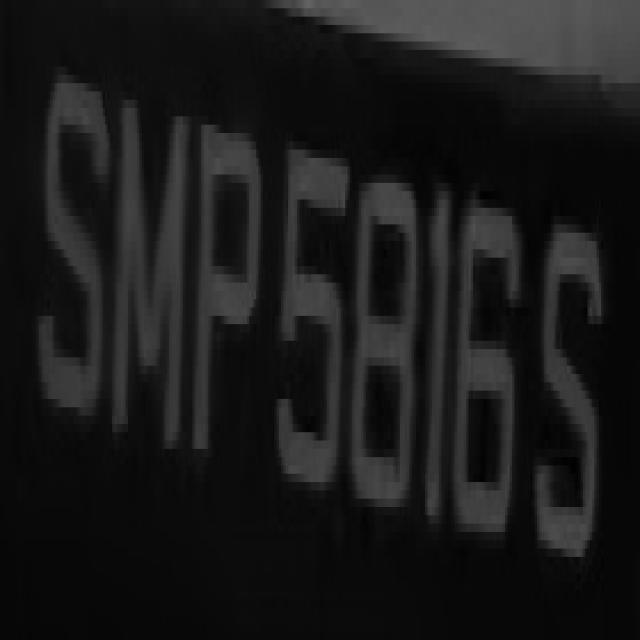1: (407, 158, 450, 582)
5: (272, 117, 357, 516)
6: (450, 166, 519, 574)
8: (350, 149, 418, 582)
M: (103, 67, 187, 466)
P: (190, 75, 256, 499)
S: (30, 41, 110, 449), (537, 183, 608, 582)
